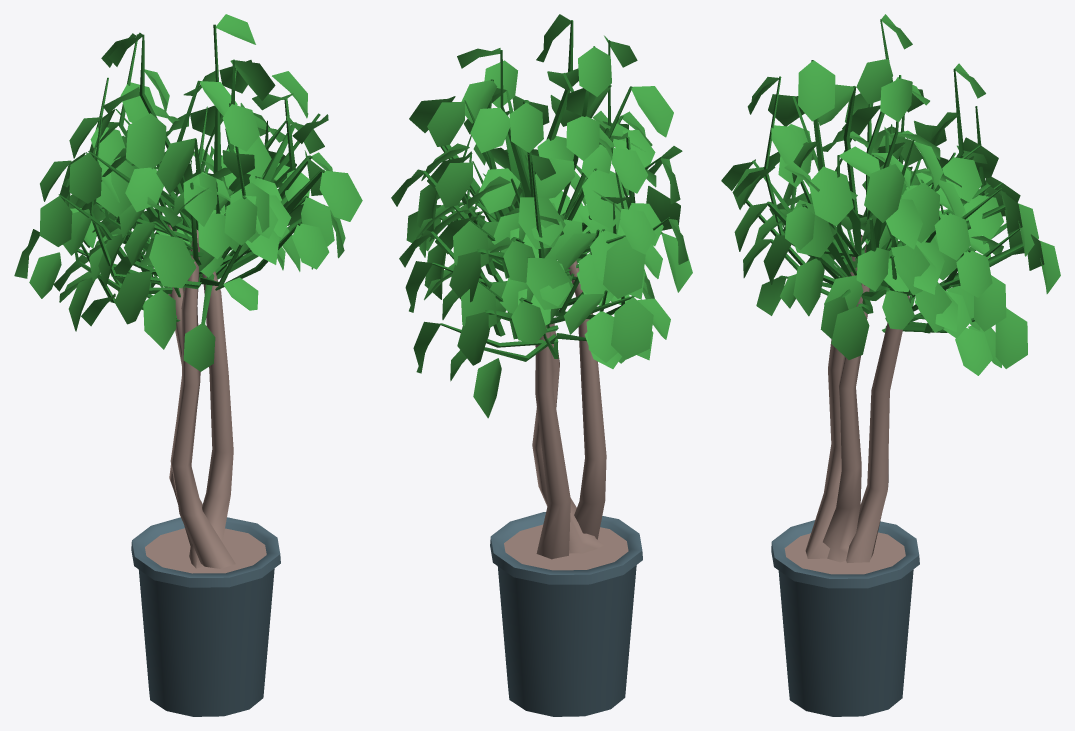
The model's file is plant.glb.
3 renders of one model, left to right at view 1: azimuth 30°, elevation 25°; view 2: azimuth 150°, elevation 25°; view 3: azimuth 270°, elevation 25°, orthographic. The views are drawn at different scales.
Parts seen in each view (by area): view 1: flower_027; view 2: flower_027; view 3: flower_027.
Boxes of the visible parts, box(x1,y1,x2,y2) form: flower_027: box(14, 14, 362, 716); flower_027: box(391, 14, 692, 716); flower_027: box(721, 14, 1060, 716).
Size of the model in its own units: 0.7802 by 1.68 by 0.7947.
Materials: 1 (1 with a texture image).
